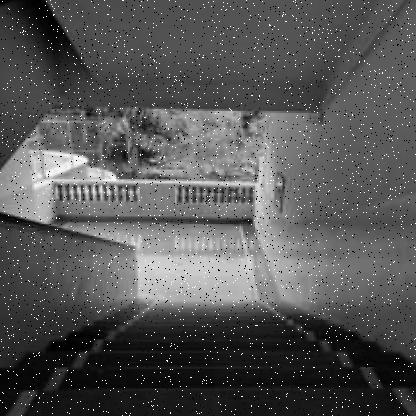stair_down: (106, 288, 324, 402)
